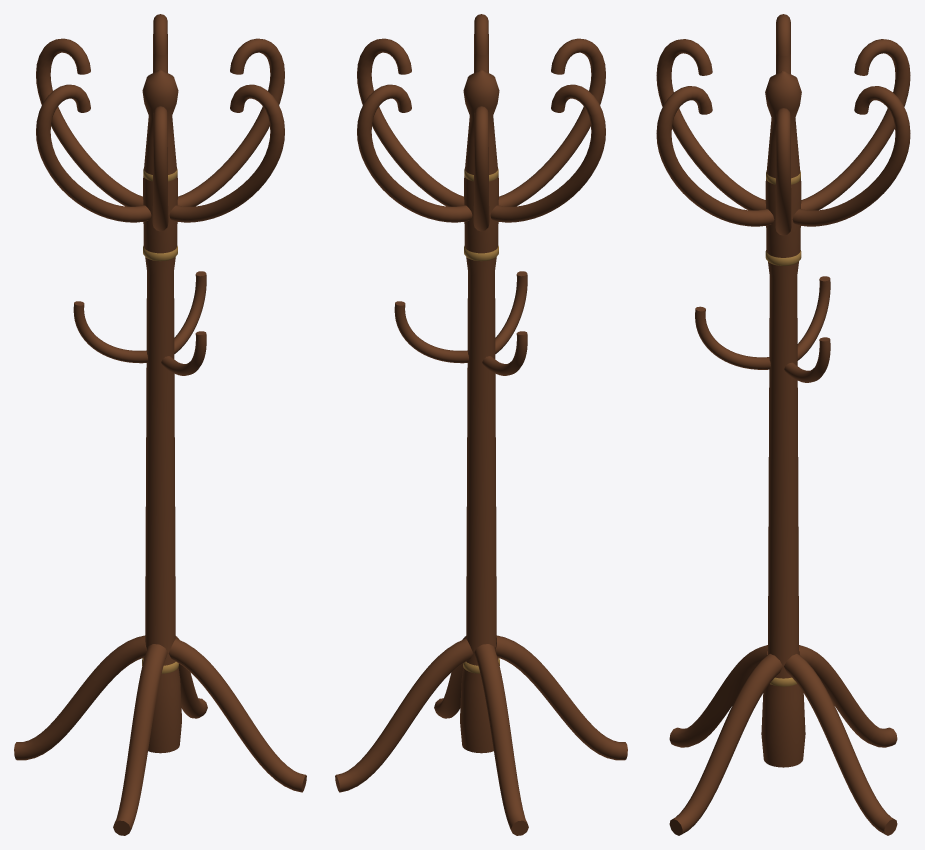
File: coat_rack.glb
3 renders of one model, left to right at view 1: azimuth 30°, elevation 25°; view 2: azimuth 150°, elevation 25°; view 3: azimuth 270°, elevation 25°, orthographic.
Visible parts, largest first — view 1: Cafe_Walnut_Coat_Rack; view 2: Cafe_Walnut_Coat_Rack; view 3: Cafe_Walnut_Coat_Rack.
Part boxes in pixels (box(x1,y1,x2,y2)): Cafe_Walnut_Coat_Rack: box(14, 14, 306, 835); Cafe_Walnut_Coat_Rack: box(335, 14, 627, 835); Cafe_Walnut_Coat_Rack: box(656, 14, 910, 835).
Bounding box in the file's own units: 0.6353 × 1.75 × 0.5546.
